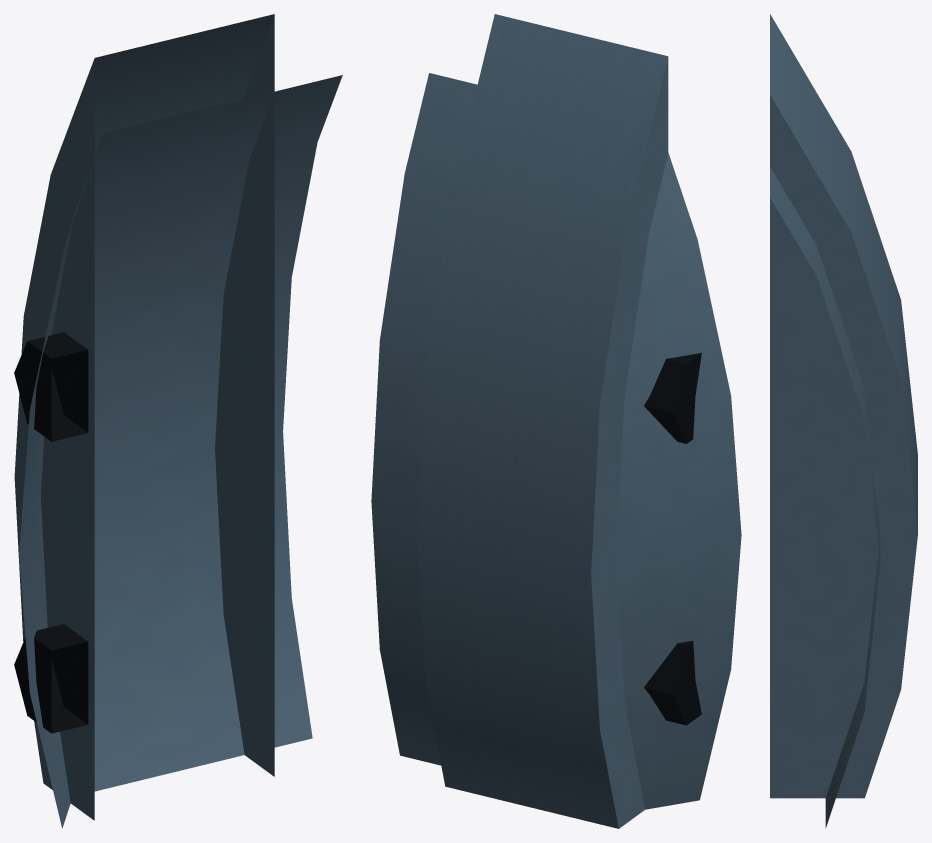
The model's file is cell_21.obj.
The picture shows the model from 3 angles, left to right: view 1: azimuth 30°, elevation 25°; view 2: azimuth 150°, elevation 25°; view 3: azimuth 270°, elevation 25°; orthographic projection. The views are drawn at different scales.
Parts seen in each view (by area): view 1: cell_21; view 2: cell_21; view 3: cell_21.
Part boxes in pixels (<box>): cell_21: <box>14,14,342,828</box>; cell_21: <box>371,14,741,828</box>; cell_21: <box>770,14,917,828</box>.
Size of the model in its own units: 0.2376 by 0.535 by 0.1019.
